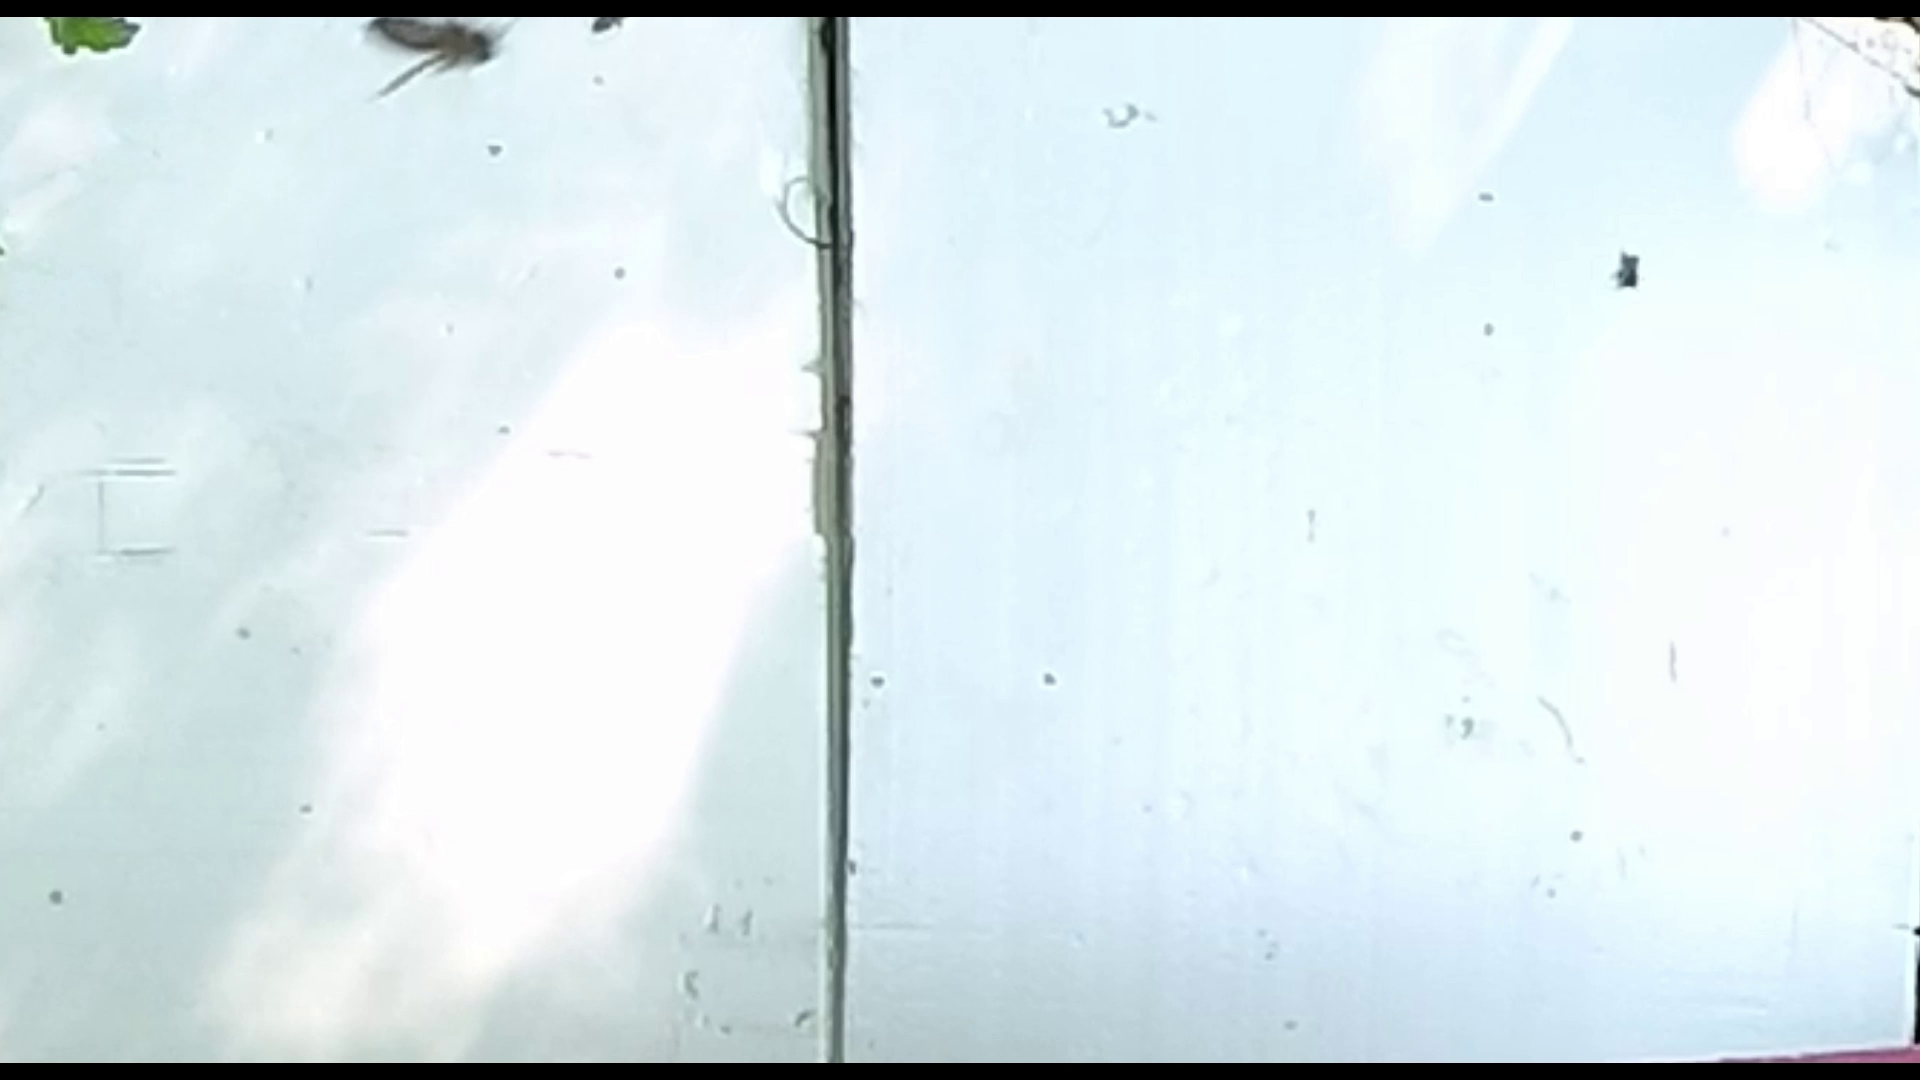Asian_hornets: (348, 16, 526, 111)
